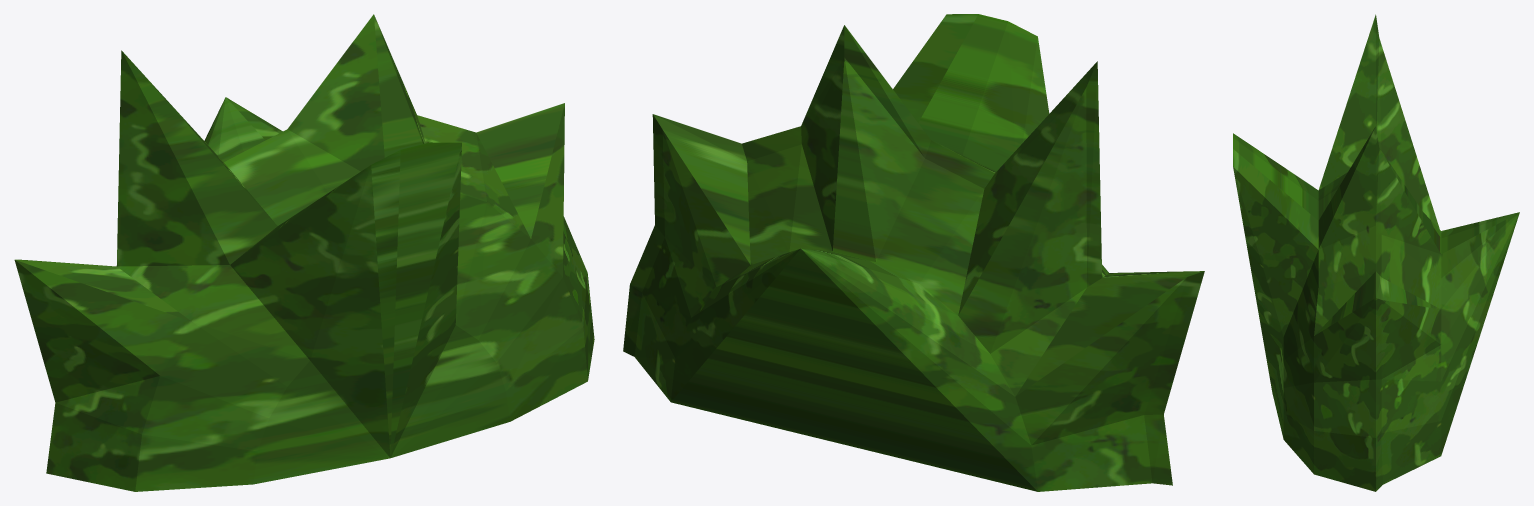
File: Bush2.glb
The picture shows the model from 3 angles, left to right: view 1: azimuth 30°, elevation 25°; view 2: azimuth 150°, elevation 25°; view 3: azimuth 270°, elevation 25°; orthographic projection. The views are drawn at different scales.
Visible parts, largest first — view 1: Bush2; view 2: Bush2; view 3: Bush2.
Part boxes in pixels (x1,y1,x2,y2): Bush2: (14, 14, 594, 491); Bush2: (623, 14, 1204, 491); Bush2: (1233, 14, 1519, 491).
Size of the model in its own units: 66.21 by 44.35 by 37.75.
Materials: 1 (1 with a texture image).
